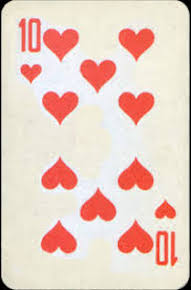TenOfHearts: (1, 1, 188, 290)
